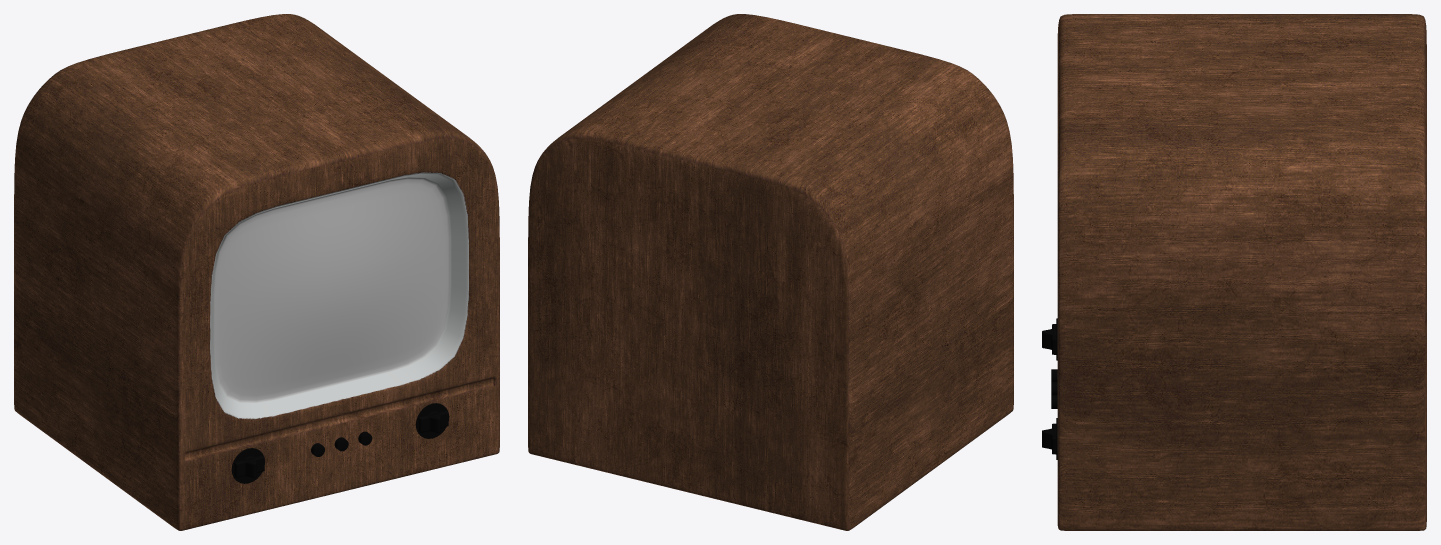
Rendered from television.glb.
The picture shows the model from 3 angles, left to right: view 1: azimuth 30°, elevation 25°; view 2: azimuth 150°, elevation 25°; view 3: azimuth 270°, elevation 25°; orthographic projection. The views are drawn at different scales.
Visible parts, largest first — view 1: TV television_midPoly; view 2: TV television_midPoly; view 3: TV television_midPoly.
Boxes of the visible parts, <box> form: TV television_midPoly: <box>14,14,499,530</box>; TV television_midPoly: <box>528,14,1013,530</box>; TV television_midPoly: <box>1057,14,1426,530</box>.
Size of the model in its own units: 0.0308 by 0.0308 by 0.0287.
1 material, 1 textured.
